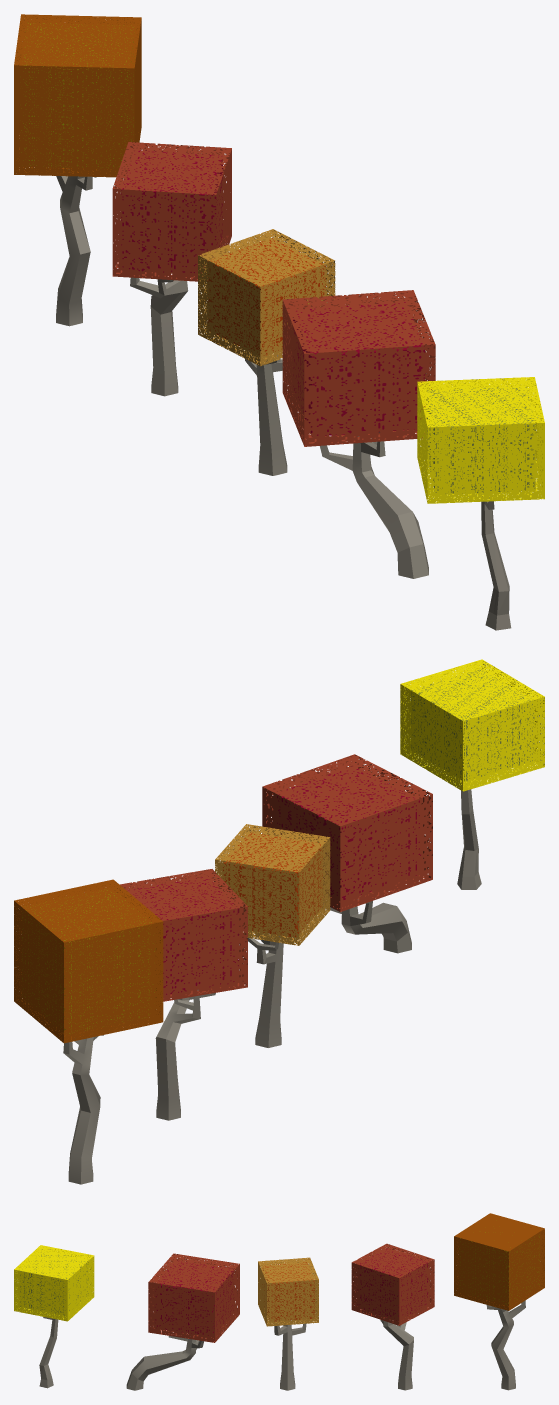
Rendered from trees.fbx.
3 renders of one model, top to bottom at view 1: azimuth 30°, elevation 25°; view 2: azimuth 150°, elevation 25°; view 3: azimuth 270°, elevation 25°, orthographic. The views are drawn at different scales.
Parts seen in each view (by area): view 1: tree_02, tree_05, tree_04, tree_01, tree_03; view 2: tree_05, tree_02, tree_01, tree_04, tree_03; view 3: tree_05, tree_02, tree_04, tree_01, tree_03.
Part boxes in pixels (bbox=[...]): tree_02: bbox=[282, 290, 435, 578]; tree_05: bbox=[14, 14, 141, 326]; tree_04: bbox=[112, 142, 231, 396]; tree_01: bbox=[417, 377, 544, 630]; tree_03: bbox=[198, 229, 335, 475]; tree_05: bbox=[14, 879, 163, 1184]; tree_02: bbox=[262, 754, 432, 953]; tree_01: bbox=[400, 659, 544, 889]; tree_04: bbox=[119, 869, 247, 1120]; tree_03: bbox=[215, 824, 330, 1047]; tree_05: bbox=[454, 1213, 544, 1390]; tree_02: bbox=[126, 1253, 239, 1390]; tree_04: bbox=[351, 1243, 434, 1390]; tree_01: bbox=[14, 1245, 94, 1388]; tree_03: bbox=[258, 1257, 318, 1390].
Size of the model in its own units: 152 by 281 by 873.
